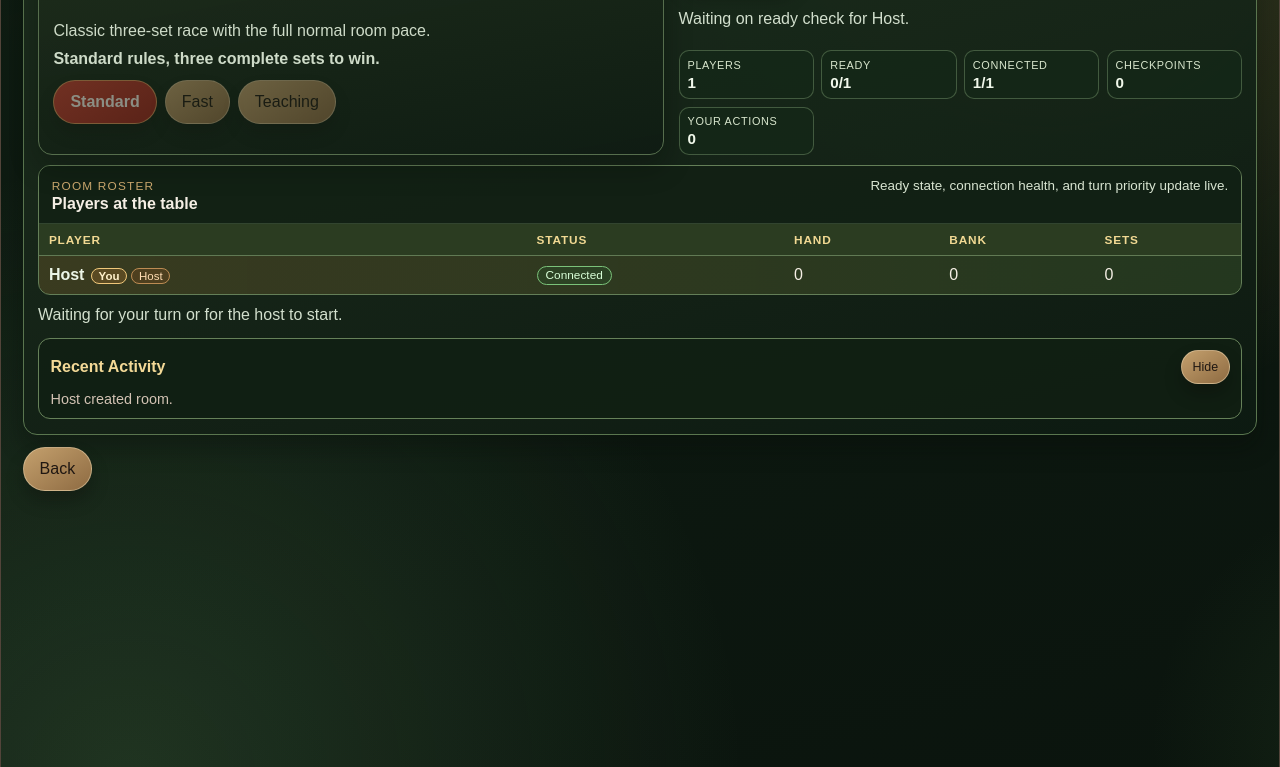
Test: MultiplayerScreen › allows collapsing and expanding recent activity in lobby
(page scrolled)
Expected: the text "Host created room." is shown, [50, 391, 173, 407]
What coordinates should you click on to do the following:
click the button "Hide"
I would click on:
 (1205, 367)
Its box is [1181, 350, 1230, 384].
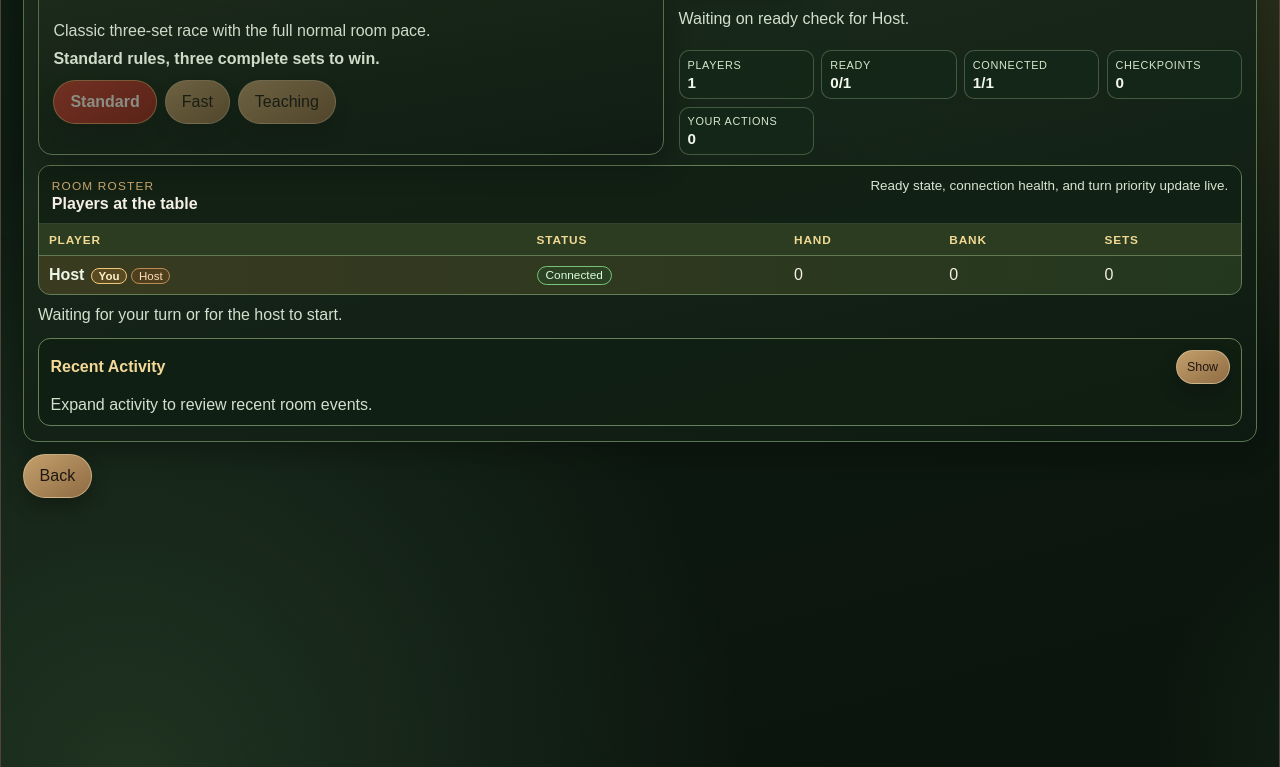
Expected: the text "Host created room" is gone
Expected: the text "Expand activity to review recent room events." is shown, [50, 396, 372, 413]
What coordinates should you click on to do the following:
click the button "Show"
I would click on:
 (1202, 367)
Its box is [1176, 350, 1230, 384].
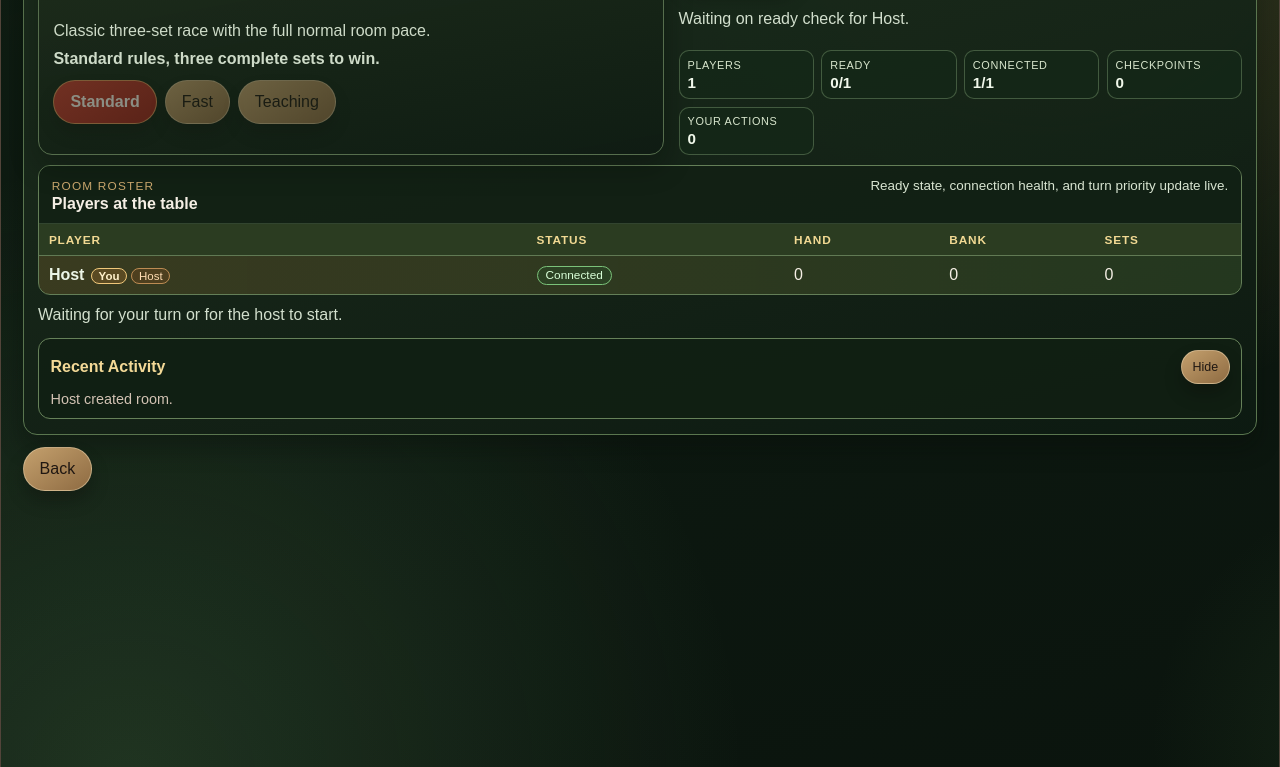
Expected: the text "Host created room." is shown, [50, 391, 173, 407]
